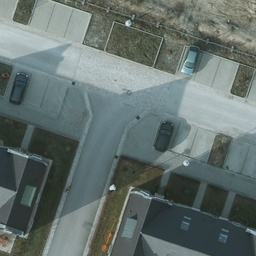car: (8, 73, 28, 106), (154, 120, 174, 153), (179, 46, 199, 76)
